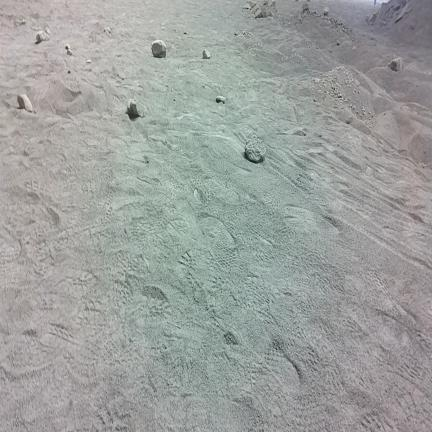Rock: (245, 135, 266, 162), (17, 94, 33, 112), (127, 99, 143, 116), (152, 40, 166, 57), (396, 3, 408, 22), (389, 57, 402, 71), (36, 31, 49, 43), (368, 13, 378, 25), (14, 18, 25, 26), (293, 130, 306, 136), (247, 0, 256, 8), (255, 9, 263, 18), (216, 96, 226, 103), (203, 50, 210, 59), (346, 116, 353, 124), (104, 27, 111, 34), (303, 3, 309, 11), (243, 4, 251, 10), (324, 7, 329, 16), (45, 26, 50, 34), (267, 10, 272, 17), (271, 0, 275, 8), (67, 49, 72, 55), (66, 44, 70, 50), (86, 59, 91, 63), (337, 41, 340, 45), (184, 31, 187, 34)
